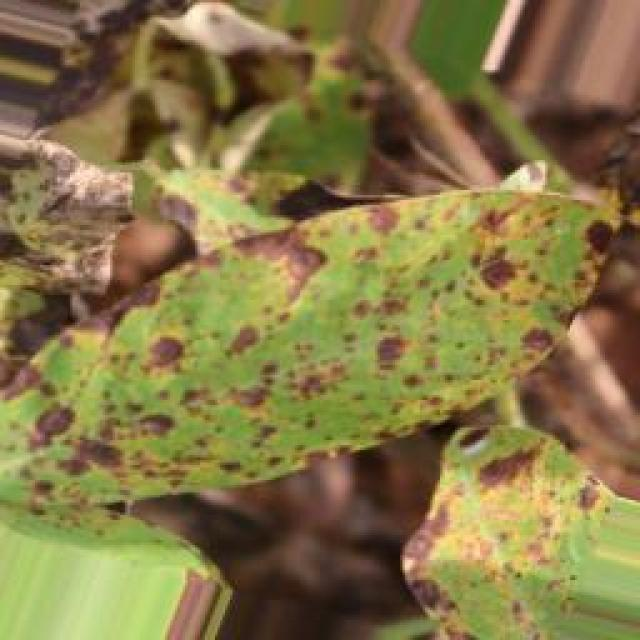Yellowish: (2, 128, 605, 616)
